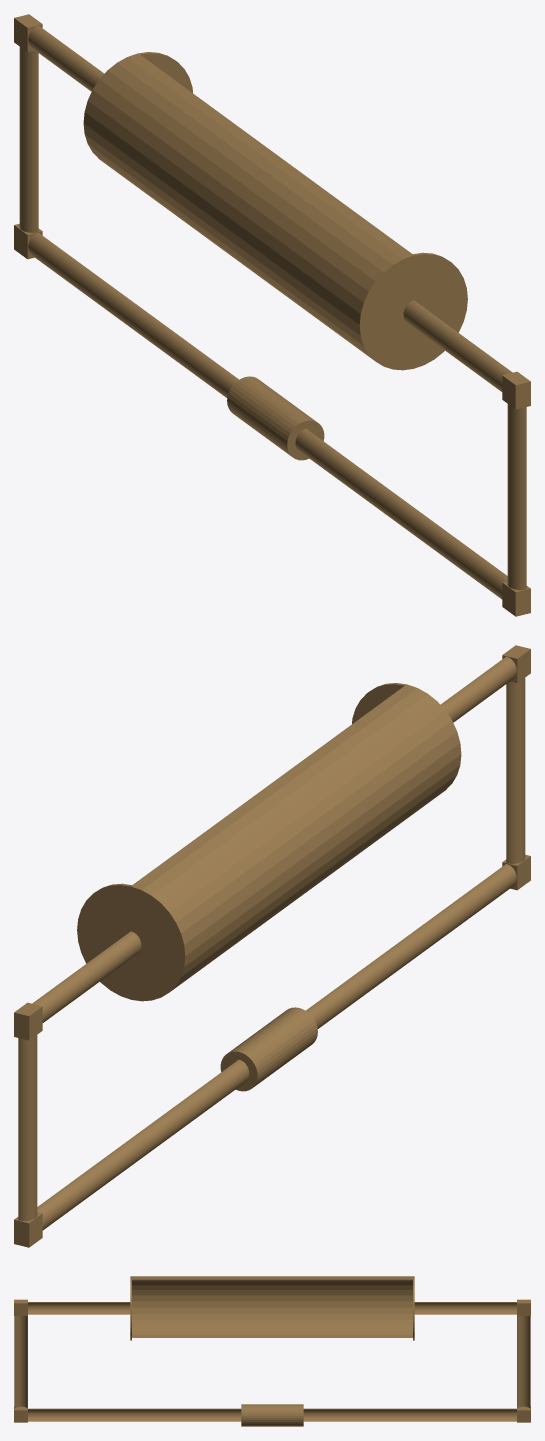
Rendered from Final FOE 4.gltf.
3 views of the same model, one above another, from view 1: azimuth 30°, elevation 25°; view 2: azimuth 150°, elevation 25°; view 3: azimuth 270°, elevation 25° (orthographic). The views are drawn at different scales.
Parts seen in each view (by area): view 1: Cylinder; view 2: Cylinder; view 3: Cylinder.
Part boxes in pixels (x1,y1,x2,y2): Cylinder: (14, 14, 530, 616); Cylinder: (14, 645, 530, 1247); Cylinder: (14, 1276, 530, 1426).
Bounding box in the file's own units: 2.81 × 7.03 × 22.56.
